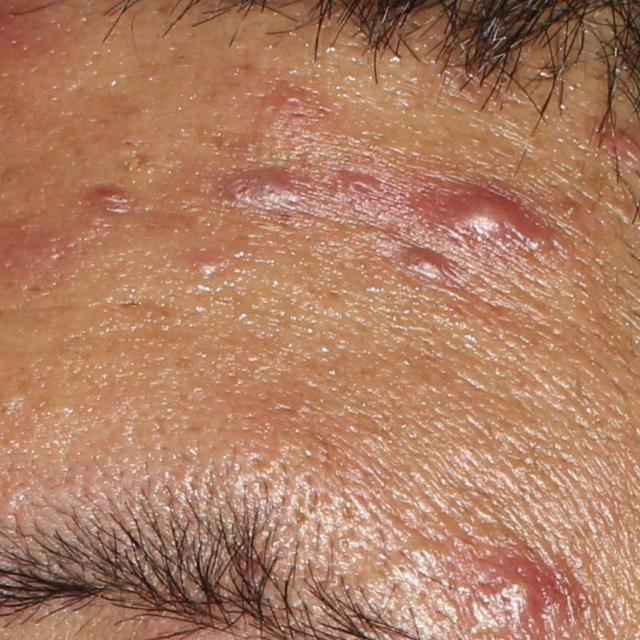nodule: (438, 194, 524, 241), (224, 171, 295, 205), (499, 575, 541, 619), (406, 249, 445, 275)
